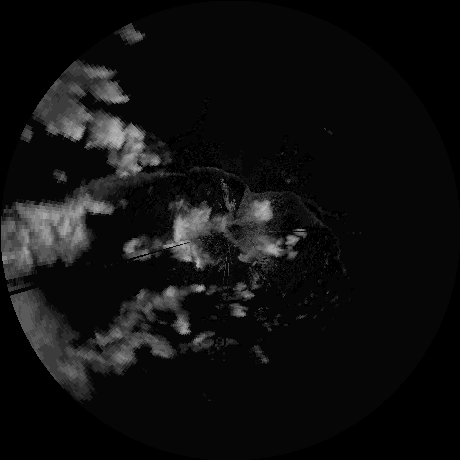frontgust: (142, 163, 248, 188), (255, 188, 323, 226)
